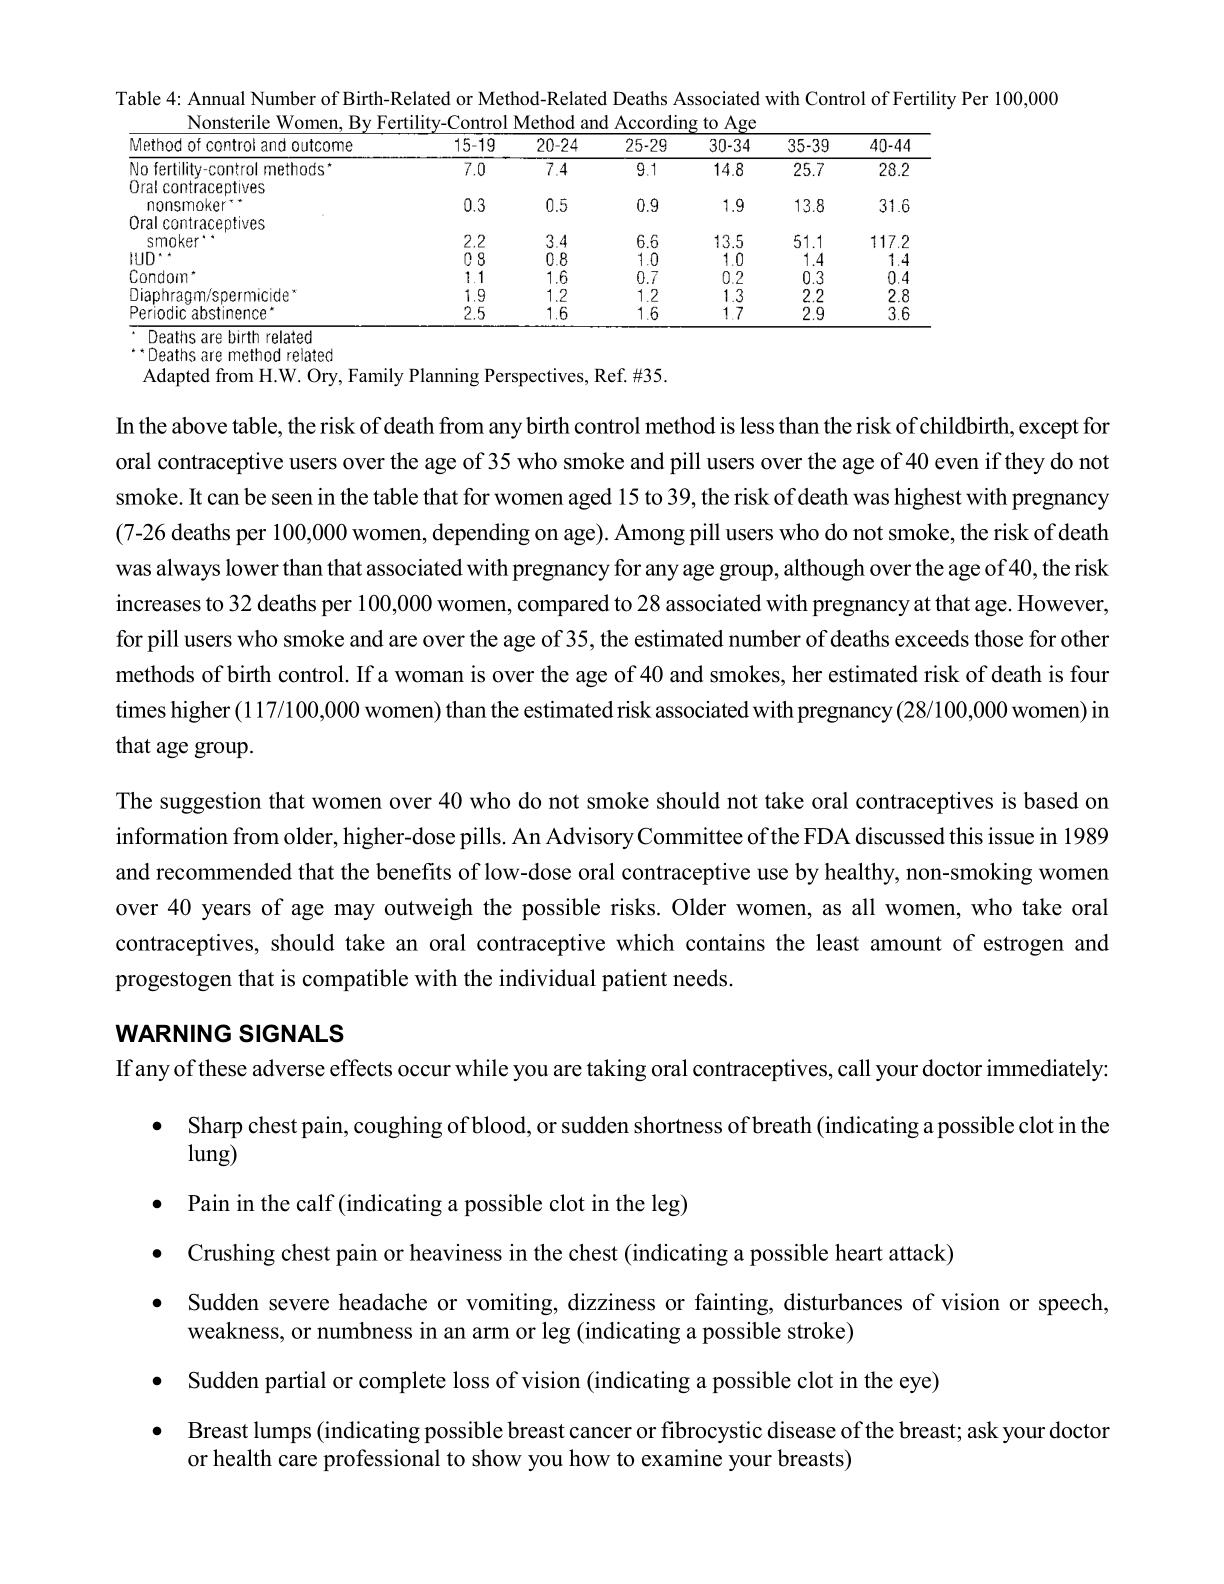partial_lined: (126, 129, 933, 330)
